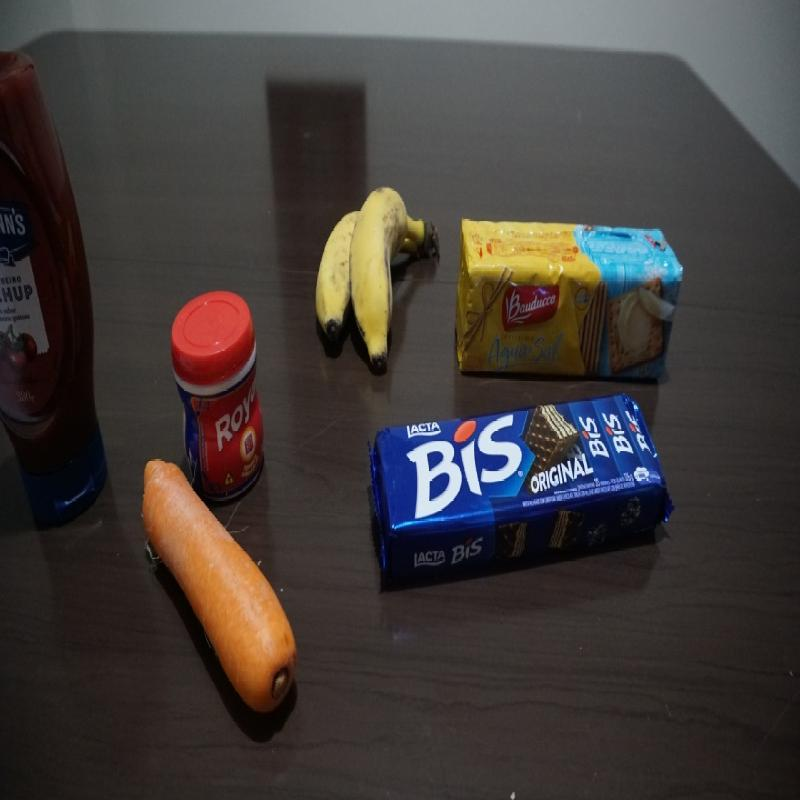Banana: (313, 183, 441, 375)
Carrot: (140, 455, 299, 722)
Cracker: (452, 216, 685, 386)
Ketchup: (1, 42, 110, 528)
Yeast: (170, 287, 265, 505)
